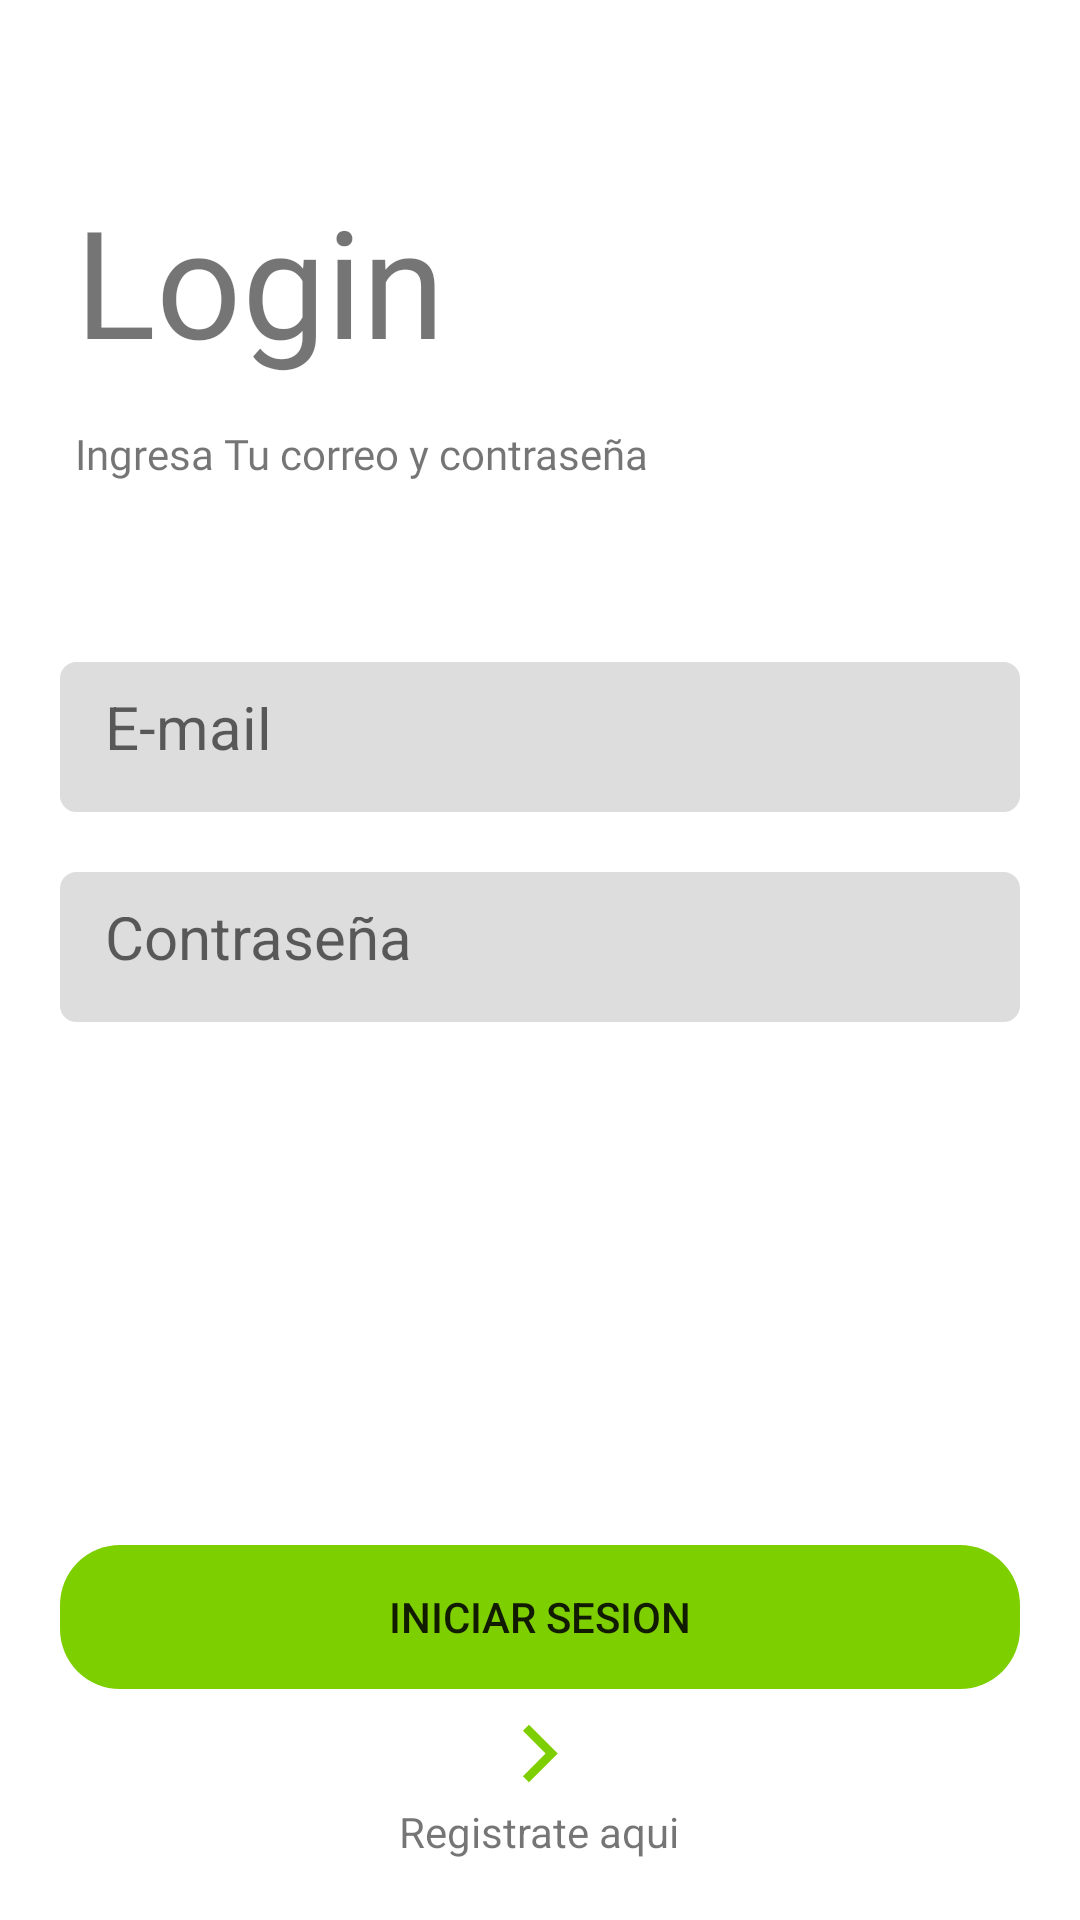

Icon click points for this 1080×1920 phone screenshot, format [x,y]:
arrow right: [540,1753]
